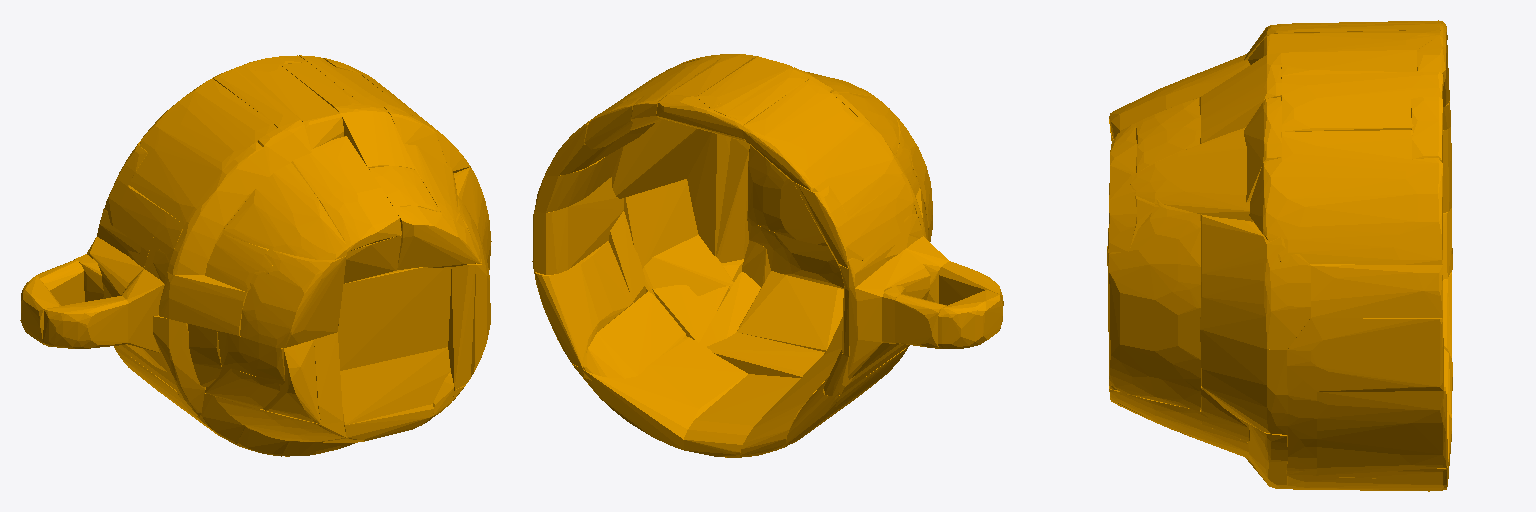
The robot description file, URDF, robot "cup-white":
<?xml version="1.0" ?>
<robot name="cup-white">
  <link name="baseLink">
    <contact>
      <lateral_friction value="1.0"/>
      <inertia_scaling value="3.0"/>
    </contact>
    <inertial>
      <origin rpy="0 0 0" xyz="0.000 0.000 0.000"/>
       <mass value=".1"/>
       <inertia ixx="1" ixy="0.0" ixz="0.0" iyy="1" iyz="0.0" izz="1"/>
    </inertial>
    <visual>
      <origin rpy="0 0 0" xyz="0 0 0"/>
      <geometry>
        <mesh filename="cup/cup-white_coffee_round_handle.obj" scale="1.0 1.0 1.0"/>
      </geometry>
    </visual>
    <collision>
      <origin rpy="0 0 0" xyz="0 0 0"/>
      <geometry>
        <mesh filename="../collision/cup/cup-white_coffee_round_handle.obj" scale="1.0 1.0 1.0"/>
      </geometry>
    </collision>
  </link>
</robot>
        

--- What the picture shows (computed from the rendered views, not written in the file) ---
The picture shows the robot from 3 angles, left to right: view 1: azimuth 30°, elevation 25°; view 2: azimuth 150°, elevation 25°; view 3: azimuth 270°, elevation 25°; orthographic projection.
Robot: cup-white — 1 links, 0 joints (none); root link baseLink; default pose: every joint at zero.
Visible links, largest first — view 1: baseLink; view 2: baseLink; view 3: baseLink.
Boxes of the visible links, x1,y1,x2,y2 form: baseLink: (20,55,491,456); baseLink: (532,54,1003,457); baseLink: (1107,20,1452,491).
Bounding box of the posed robot: 0.1112 × 0.0633 × 0.0857 m (x, y, z).
Meshes: 1 distinct files referenced, 1 mesh visuals loaded (1 OBJ).